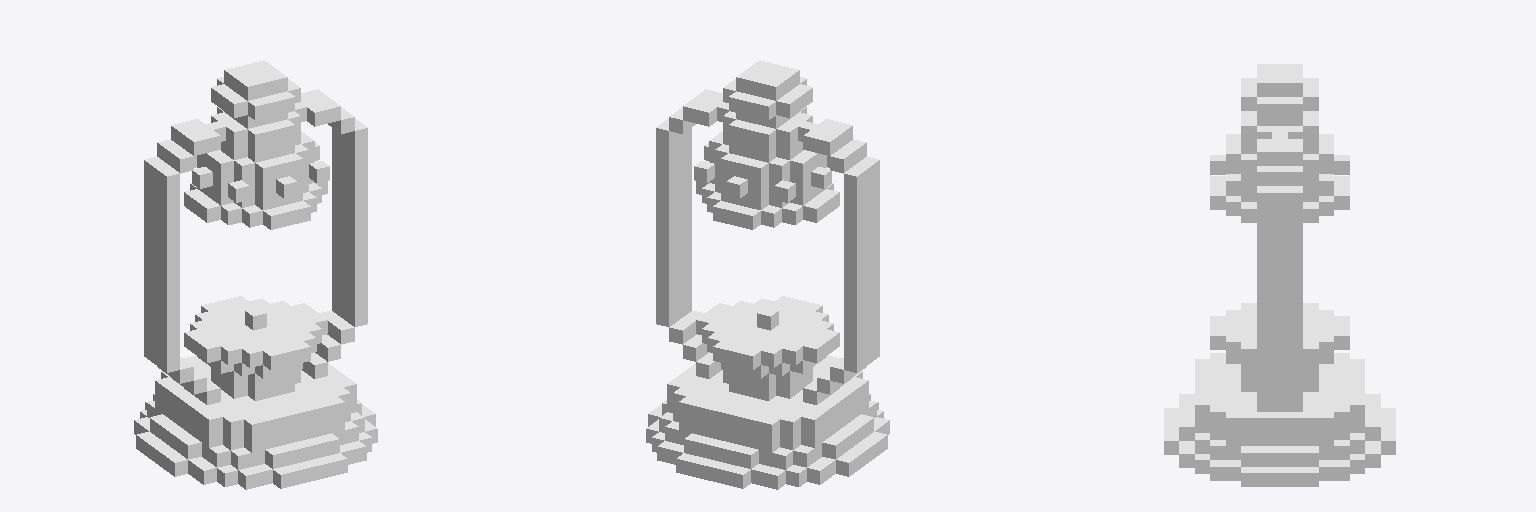
File: Lantern_Body.obj
3 renders of one model, left to right at view 1: azimuth 30°, elevation 25°; view 2: azimuth 150°, elevation 25°; view 3: azimuth 270°, elevation 25°, orthographic.
Parts seen in each view (by area): view 1: object 1; view 2: object 1; view 3: object 1.
Part boxes in pixels (x1,y1,x2,y2): object 1: (134,60,377,489); object 1: (646,60,889,489); object 1: (1164,64,1395,486).
Bounding box in the file's own units: 1.5 × 2.6 × 1.5.